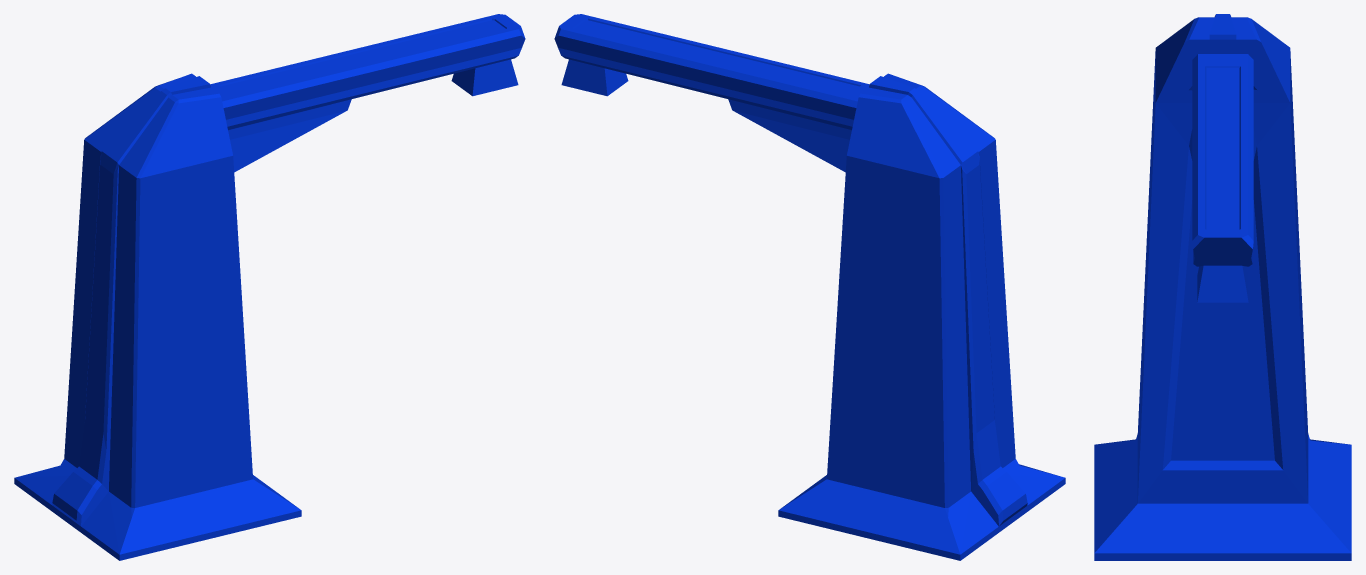
The model's file is Dropper_BasicBlue.fbx.
3 renders of one model, left to right at view 1: azimuth 30°, elevation 25°; view 2: azimuth 150°, elevation 25°; view 3: azimuth 270°, elevation 25°, orthographic. The views are drawn at different scales.
Parts seen in each view (by area): view 1: Cube; view 2: Cube; view 3: Cube.
Part boxes in pixels (x1,y1,x2,y2): Cube: (14, 14, 525, 560); Cube: (554, 14, 1065, 560); Cube: (1094, 14, 1351, 560).
Bounding box in the file's own units: 1232 × 1081 × 500.
